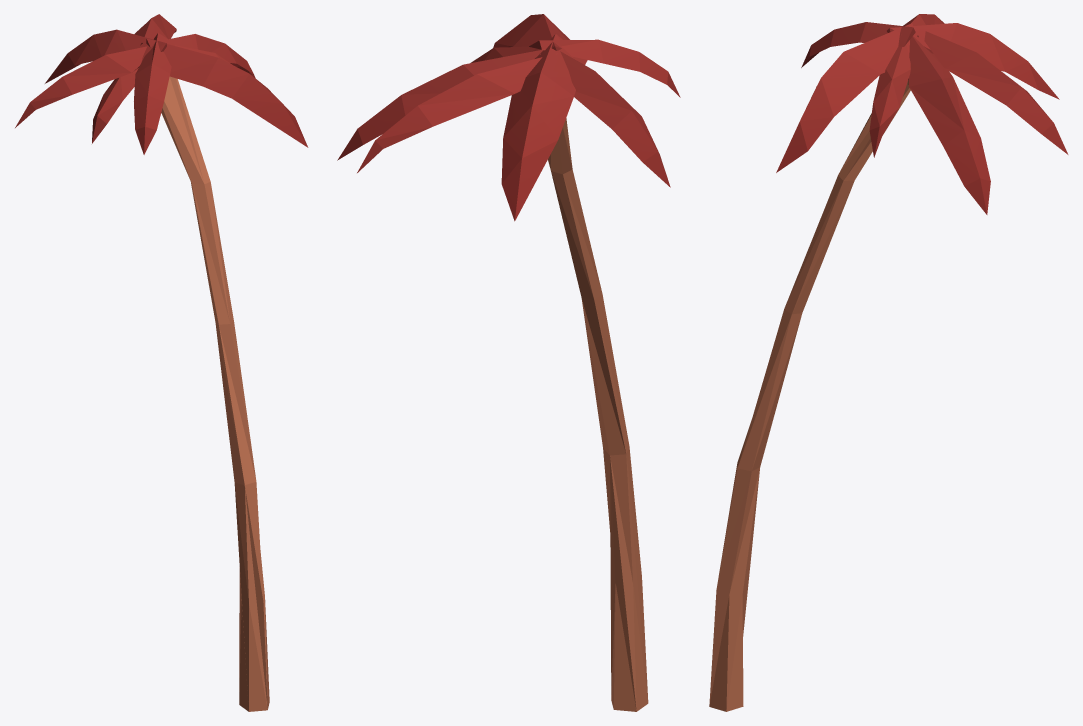
Rendered from Tree_10_gradient_red_vc.fbx.
3 views of the same model, side by side, from view 1: azimuth 30°, elevation 25°; view 2: azimuth 150°, elevation 25°; view 3: azimuth 270°, elevation 25° (orthographic). The views are drawn at different scales.
Parts seen in each view (by area): view 1: Tree_10_gradient_red_vc; view 2: Tree_10_gradient_red_vc; view 3: Tree_10_gradient_red_vc.
Boxes of the visible parts, left/top/right/bottom form: Tree_10_gradient_red_vc: left=15, top=14, right=308, bottom=711; Tree_10_gradient_red_vc: left=337, top=14, right=680, bottom=711; Tree_10_gradient_red_vc: left=709, top=14, right=1068, bottom=711.
Size of the model in its own units: 89.06 by 201 by 97.75.
